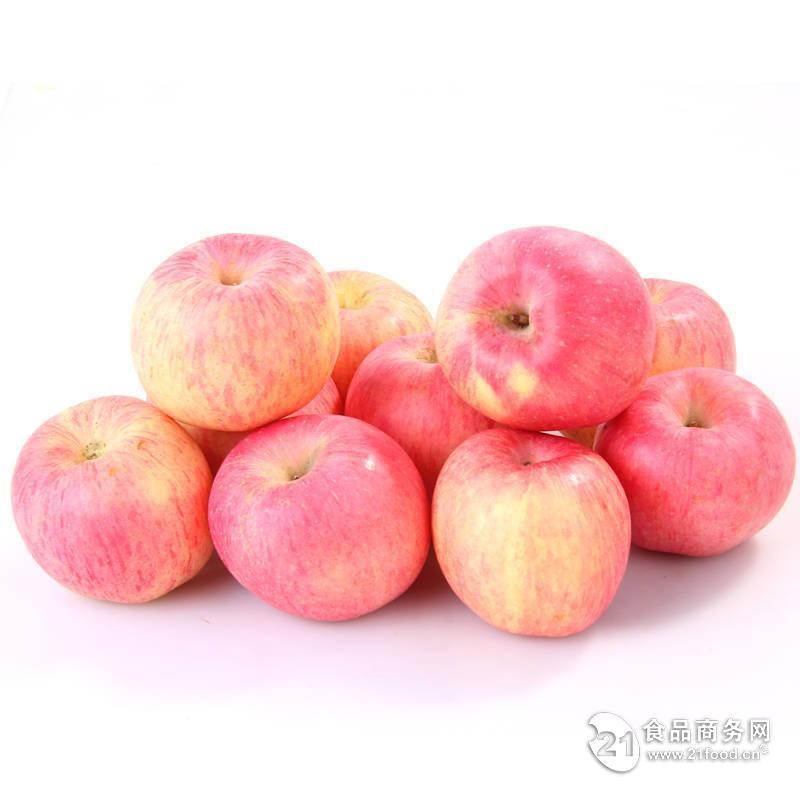apple: (209, 408, 437, 620), (434, 223, 654, 435), (7, 393, 214, 607), (433, 425, 635, 640), (132, 234, 342, 432), (598, 368, 795, 560)
